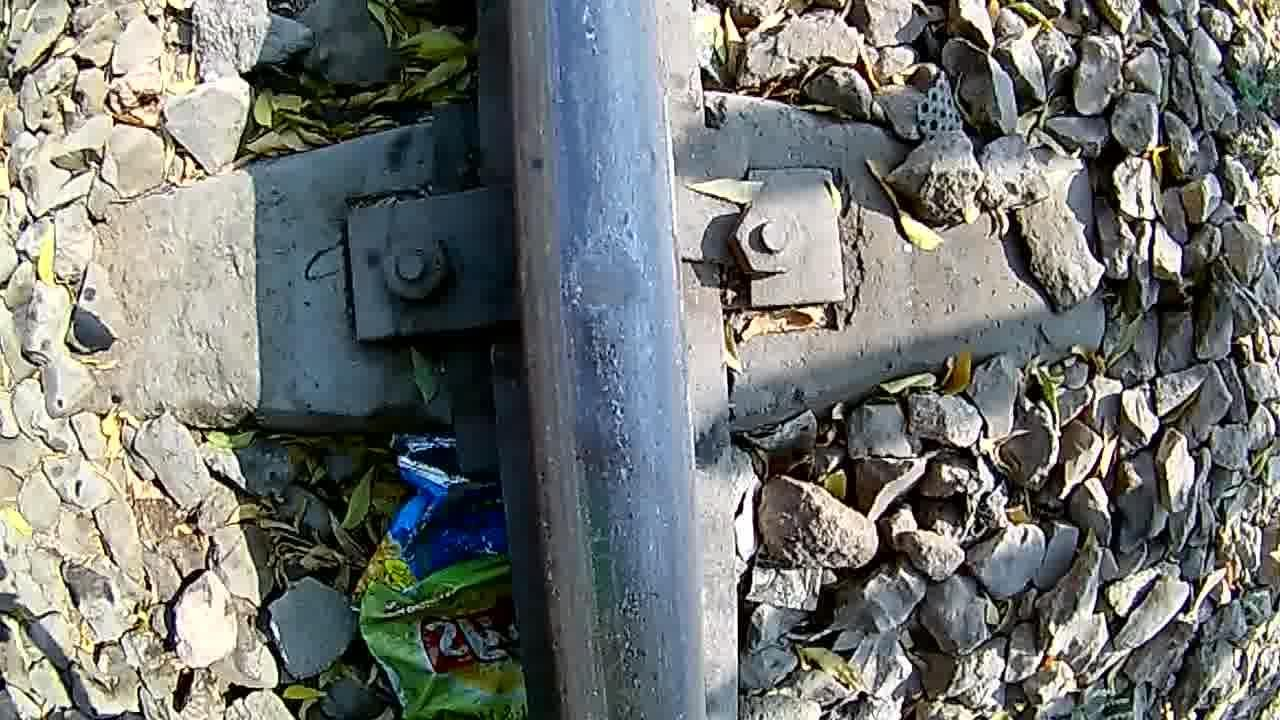crack: (522, 131, 692, 470)
